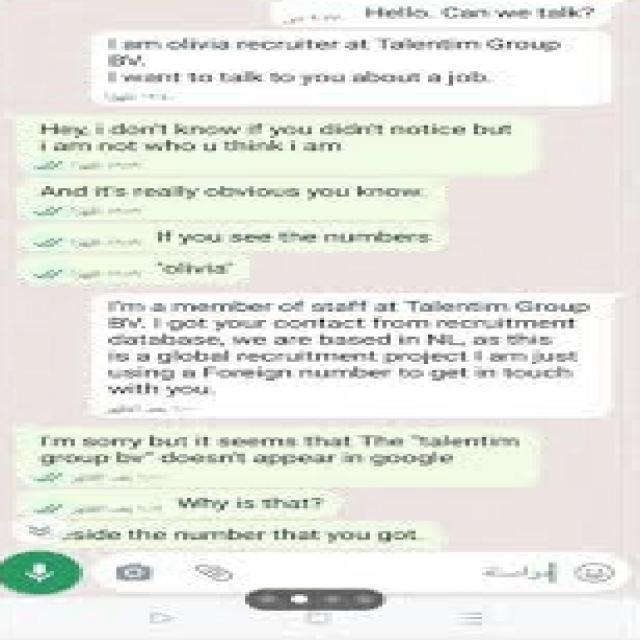scam: (26, 118, 534, 176), (25, 426, 552, 469), (28, 174, 438, 216), (37, 512, 420, 547), (22, 224, 440, 256), (46, 488, 328, 519), (42, 254, 275, 288)
